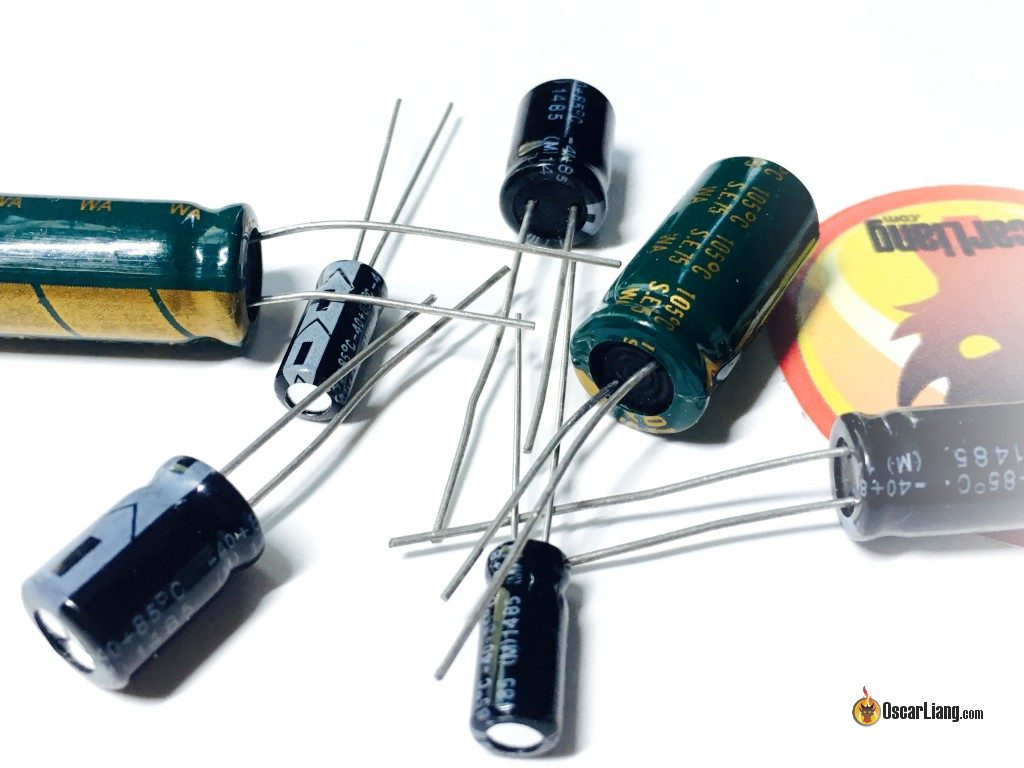capacitor: (8, 421, 352, 731), (567, 103, 845, 470), (4, 142, 274, 398), (435, 495, 641, 754), (479, 37, 653, 278), (819, 367, 1017, 577), (256, 225, 437, 438)
